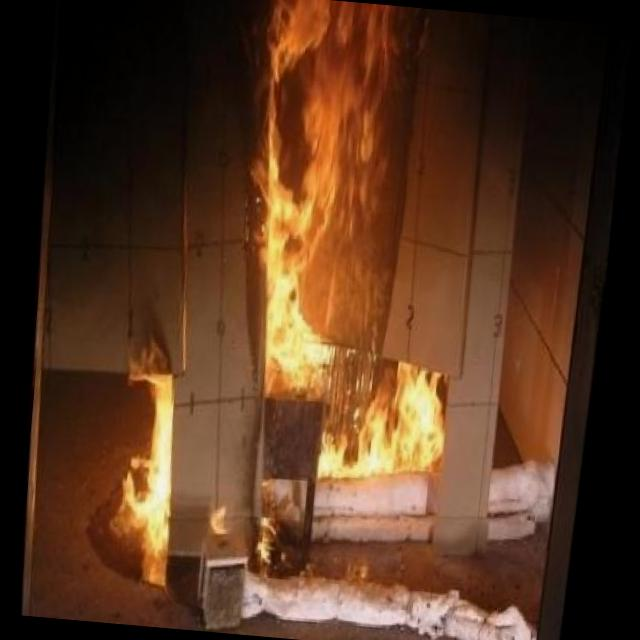fire: (180, 0, 529, 518), (104, 295, 248, 606)
